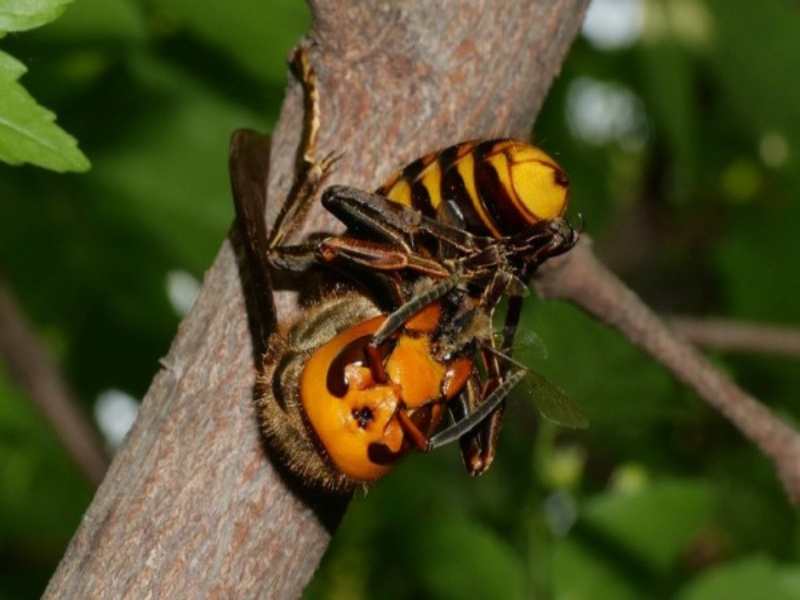asian_giant_hornet: (249, 132, 577, 500)
